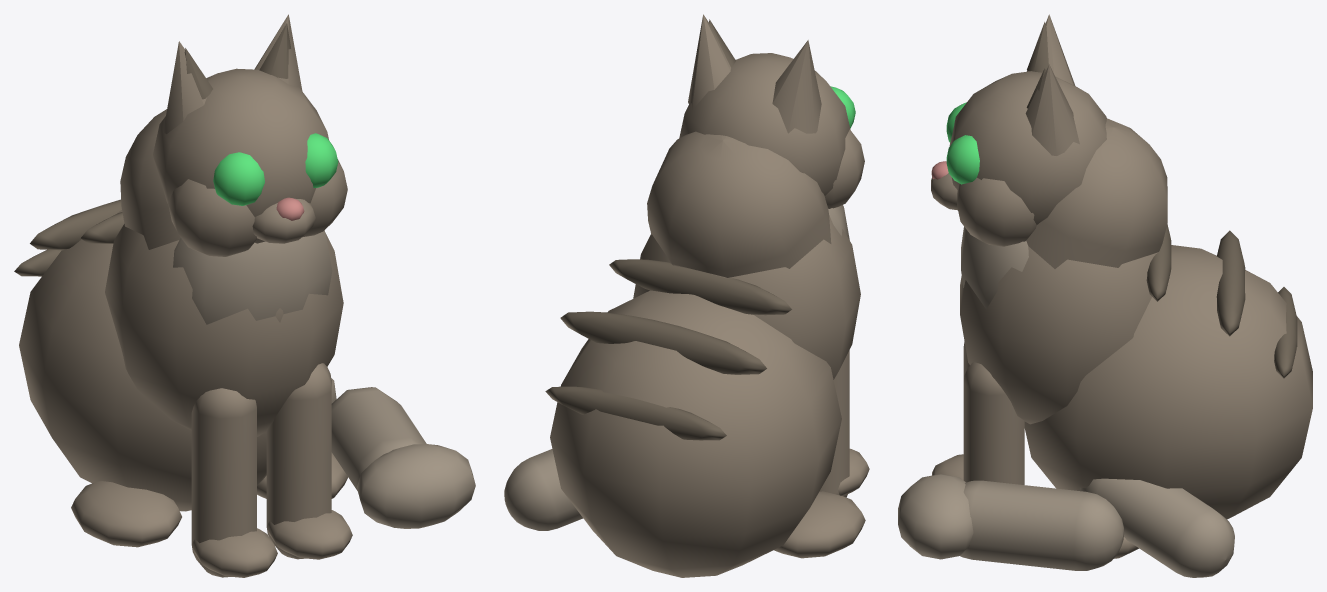
Rendered from oni.glb.
3 renders of one model, left to right at view 1: azimuth 30°, elevation 25°; view 2: azimuth 150°, elevation 25°; view 3: azimuth 270°, elevation 25°, orthographic. The views are drawn at different scales.
Visible parts, largest first — view 1: coat, head, tailGeo, ruff, eyes, stripes, tufts; view 2: coat, head, stripes, tailGeo; view 3: coat, tailGeo, head, stripes, ruff, eyes, tufts.
Boxes of the visible parts, x1=… form: coat: x1=19, y1=109, x2=352, y2=577; head: x1=153, y1=14, x2=347, y2=256; tailGeo: x1=331, y1=378, x2=475, y2=528; ruff: x1=173, y1=230, x2=332, y2=324; eyes: x1=213, y1=133, x2=338, y2=205; stripes: x1=14, y1=199, x2=124, y2=276; tufts: x1=184, y1=23, x2=290, y2=99; coat: x1=550, y1=131, x2=869, y2=577; head: x1=679, y1=14, x2=864, y2=208; stripes: x1=545, y1=259, x2=791, y2=440; tailGeo: x1=504, y1=449, x2=582, y2=530; coat: x1=932, y1=118, x2=1312, y2=558; tailGeo: x1=898, y1=474, x2=1234, y2=577; head: x1=931, y1=14, x2=1106, y2=246; stripes: x1=1146, y1=224, x2=1297, y2=378; ruff: x1=961, y1=226, x2=1028, y2=309; eyes: x1=946, y1=102, x2=979, y2=184; tufts: x1=1026, y1=22, x2=1048, y2=108.
Bounding box in the file's own units: 0.3792 × 0.5938 × 0.4597.
